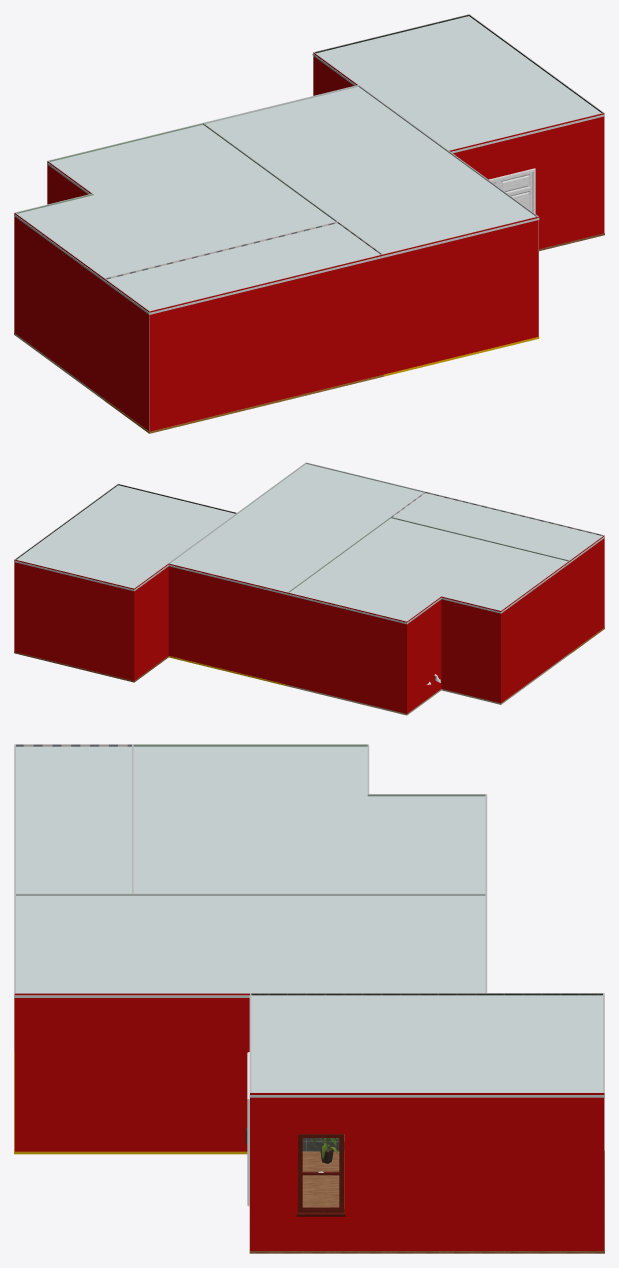
Rendered from ProcTHOR-Train-100.glb.
3 renders of one model, top to bottom at view 1: azimuth 30°, elevation 25°; view 2: azimuth 150°, elevation 25°; view 3: azimuth 270°, elevation 25°, orthographic. The views are drawn at different scales.
Visible parts, largest first — view 1: WallInside#wall|exterior|8.34|10.42|14.59|10.42, Ceiling#room|6|c, Ceiling#room|4|c, Ceiling#room|7|c, WallInside#wall|exterior|4.17|10.42|8.34|10.42, WallInside#wall|exterior|14.59|4.17|14.59|8.34, WallInside#wall|exterior|0.00|6.25|4.17|6.25, Ceiling#room|5|c, WallInside#wall|exterior|14.59|8.34|14.59|10.42, WallInside#wall|exterior|12.51|2.08|12.51|4.17, WallInside#wall|exterior|4.17|0.00|4.17|2.08, Doorway_Door_8b (+1 smaller); view 2: Ceiling#room|4|c, Ceiling#room|6|c, Ceiling#room|7|c, WallInside#wall|exterior|0.00|0.00|4.17|0.00, WallInside#wall|exterior|4.17|2.08|8.34|2.08, WallInside#wall|exterior|8.34|2.08|12.51|2.08, WallInside#wall|exterior|14.59|4.17|14.59|8.34, Ceiling#room|5|c, WallInside#wall|exterior|12.51|4.17|14.59|4.17, WallInside#wall|exterior|4.17|0.00|4.17|2.08, WallInside#wall|exterior|14.59|8.34|14.59|10.42, WallInside#wall|exterior|12.51|2.08|12.51|4.17 (+2 smaller); view 3: WallInside#wall|exterior|0.00|0.00|0.00|6.25, Ceiling#room|6|c, Ceiling#room|4|c, WallInside#wall|exterior|4.17|6.25|4.17|10.42, Ceiling#room|7|c, Ceiling#room|5|c, Floor#room|7|f, Window_Hung_32x60, WallInside#wall|7|4.17|2.08|4.17|6.25, WallInside#wall|6|8.34|2.08|8.34|8.34, Floor#room|6|f, WallInside#wall|4|14.59|4.17|14.59|8.34.
Part boxes in pixels (bbox=[...]): WallInside#wall|exterior|8.34|10.42|14.59|10.42: bbox=[149, 254, 383, 431]; Ceiling#room|6|c: bbox=[204, 87, 539, 257]; Ceiling#room|4|c: bbox=[14, 125, 335, 281]; Ceiling#room|7|c: bbox=[312, 16, 604, 153]; WallInside#wall|exterior|4.17|10.42|8.34|10.42: bbox=[382, 216, 538, 374]; WallInside#wall|exterior|14.59|4.17|14.59|8.34: bbox=[14, 212, 104, 398]; WallInside#wall|exterior|0.00|6.25|4.17|6.25: bbox=[449, 113, 604, 248]; Ceiling#room|5|c: bbox=[104, 223, 383, 314]; WallInside#wall|exterior|14.59|8.34|14.59|10.42: bbox=[104, 278, 149, 431]; WallInside#wall|exterior|12.51|2.08|12.51|4.17: bbox=[47, 161, 92, 204]; WallInside#wall|exterior|4.17|0.00|4.17|2.08: bbox=[313, 52, 357, 95]; Doorway_Door_8b: bbox=[498, 172, 532, 211]; Ceiling#room|4|c: bbox=[287, 518, 570, 624]; Ceiling#room|6|c: bbox=[168, 464, 423, 595]; Ceiling#room|7|c: bbox=[14, 485, 235, 591]; WallInside#wall|exterior|0.00|0.00|4.17|0.00: bbox=[14, 559, 134, 680]; WallInside#wall|exterior|4.17|2.08|8.34|2.08: bbox=[168, 563, 287, 684]; WallInside#wall|exterior|8.34|2.08|12.51|2.08: bbox=[287, 592, 406, 713]; WallInside#wall|exterior|14.59|4.17|14.59|8.34: bbox=[501, 560, 570, 702]; Ceiling#room|5|c: bbox=[393, 493, 604, 562]; WallInside#wall|exterior|12.51|4.17|14.59|4.17: bbox=[441, 596, 500, 703]; WallInside#wall|exterior|4.17|0.00|4.17|2.08: bbox=[134, 563, 168, 680]; WallInside#wall|exterior|14.59|8.34|14.59|10.42: bbox=[570, 535, 604, 652]; WallInside#wall|exterior|12.51|2.08|12.51|4.17: bbox=[407, 596, 441, 713]; WallInside#wall|exterior|0.00|0.00|0.00|6.25: bbox=[250, 1093, 604, 1250]; Ceiling#room|6|c: bbox=[14, 895, 487, 997]; Ceiling#room|4|c: bbox=[131, 746, 487, 894]; WallInside#wall|exterior|4.17|6.25|4.17|10.42: bbox=[14, 993, 249, 1151]; Ceiling#room|7|c: bbox=[249, 995, 604, 1097]; Ceiling#room|5|c: bbox=[14, 746, 133, 894]; Floor#room|7|f: bbox=[249, 1151, 604, 1253]; Window_Hung_32x60: bbox=[296, 1134, 345, 1216]; WallInside#wall|7|4.17|2.08|4.17|6.25: bbox=[251, 993, 486, 1151]; WallInside#wall|6|8.34|2.08|8.34|8.34: bbox=[132, 893, 486, 895]; Floor#room|6|f: bbox=[14, 1051, 247, 1154]; WallInside#wall|4|14.59|4.17|14.59|8.34: bbox=[133, 744, 367, 746].
Size of what is drawn, in the model's own units: 14.73 by 3.13 by 10.46.
215 materials, 76 textured.
